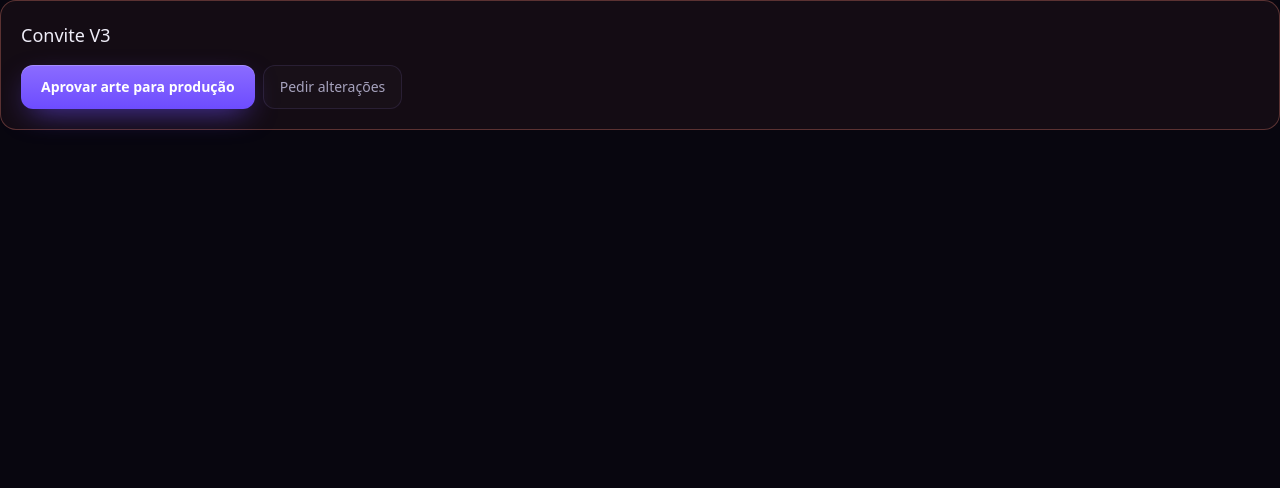
Test: ApprovalCard — arte para produção › 'Aprovar para produção' só fica ativo com 'Confirmo' (D-071) e envia 'aprovar'
This screenshot has width=1280, height=488.
What coordinates should you click on to do the following:
click the button "Aprovar arte para produção"
I would click on:
 (138, 87)
Its box is [21, 65, 255, 109].
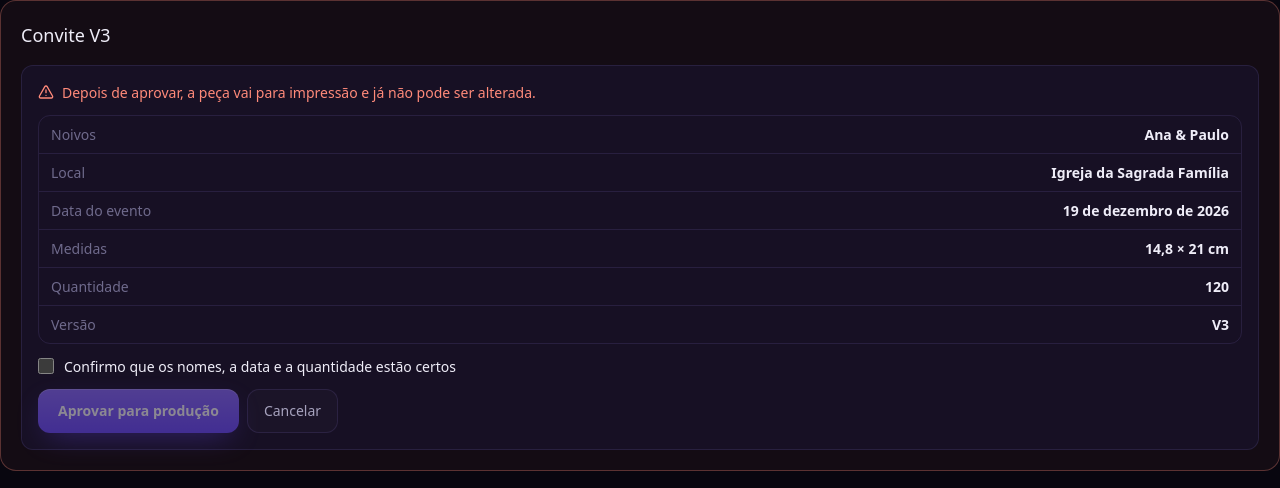
Now the button "Aprovar para produção" is disabled, box [38, 389, 239, 433]
What coordinates should you click on to do the following:
click the checkbox labelled "Confirmo que os nomes, a data e a quantidade estão certos"
I would click on:
 (46, 366)
Its box is [38, 358, 54, 374].
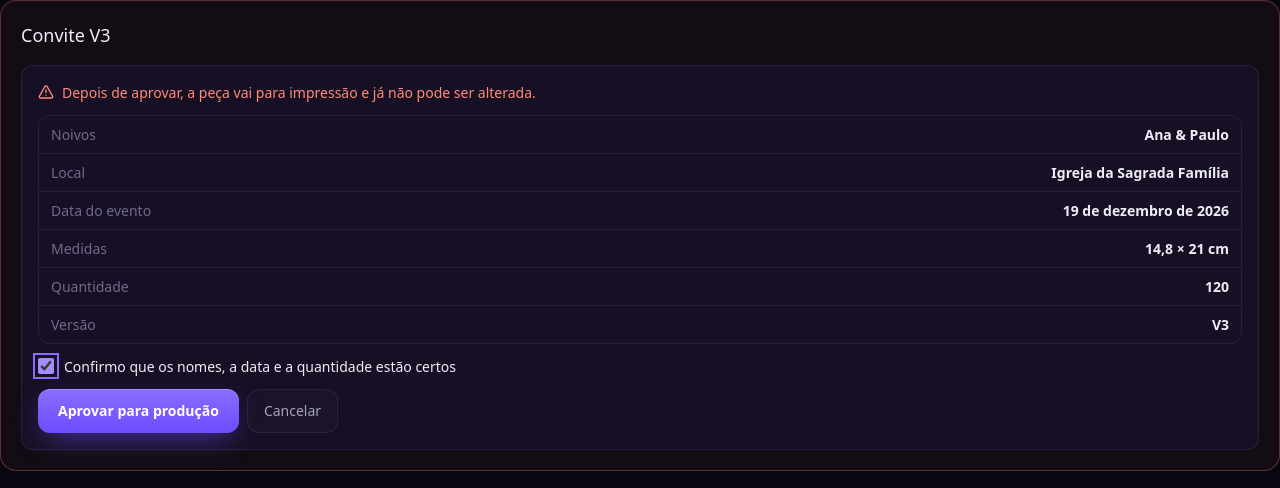
Now the button "Aprovar para produção" is enabled
What coordinates should you click on to do the following:
click the button "Aprovar para produção"
I would click on:
 (138, 411)
Its box is [38, 389, 239, 433].
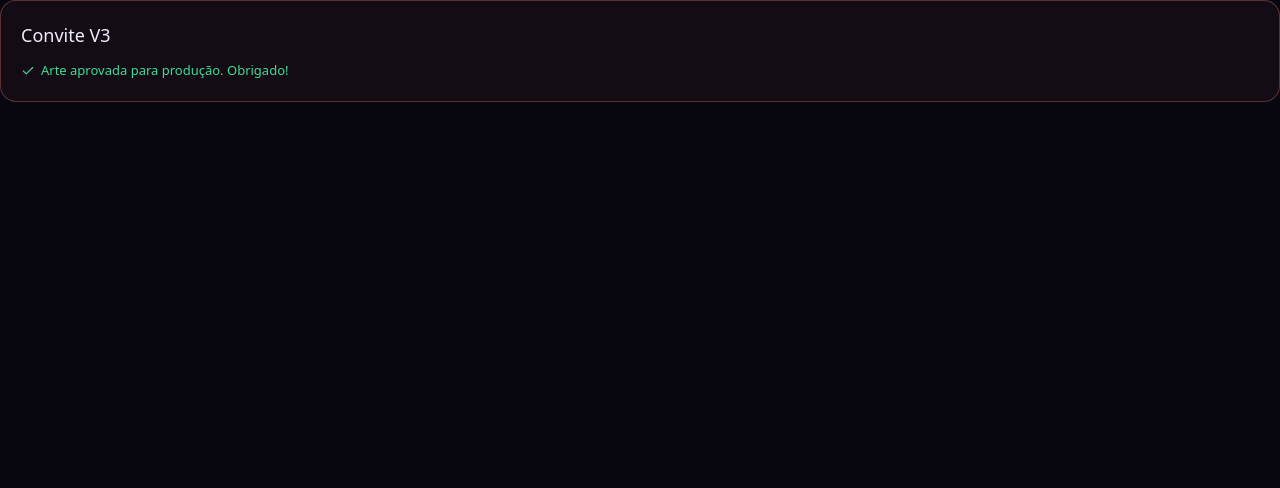
Now the message shows "Arte aprovada para produção", box [41, 61, 288, 79]
